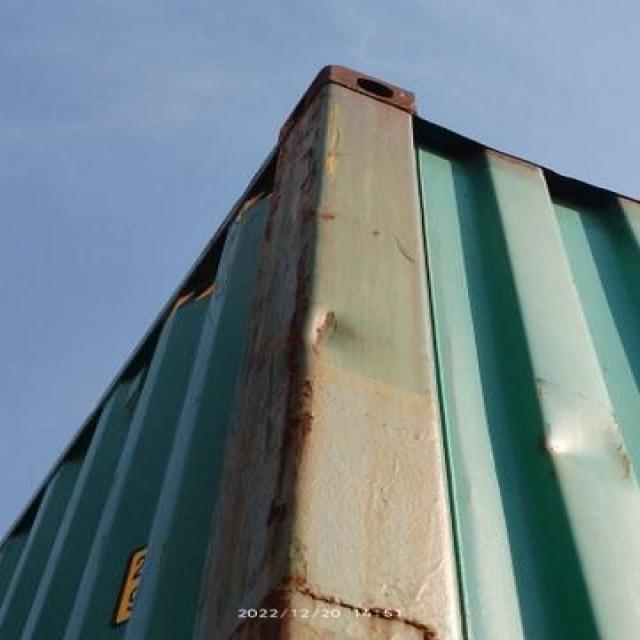Minor-Dent: (534, 420, 640, 471)
